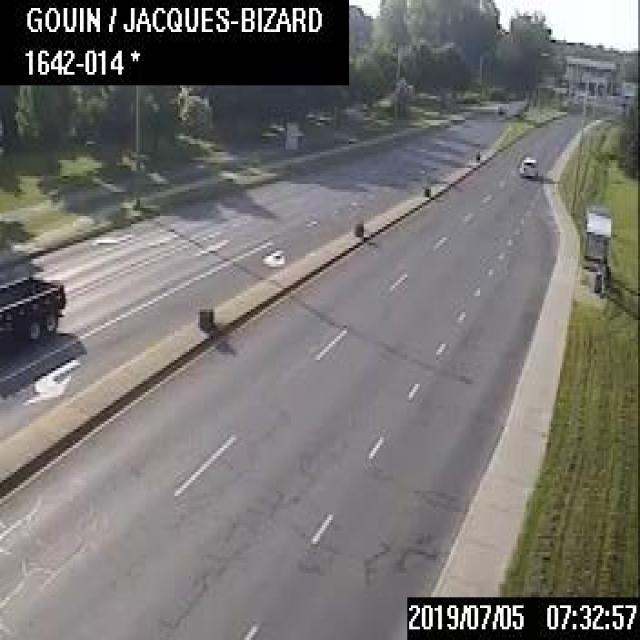vehicle: (0, 274, 65, 352), (518, 155, 535, 176)
